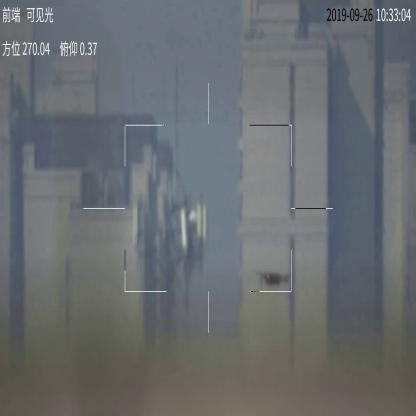uav: (256, 268, 292, 288)
